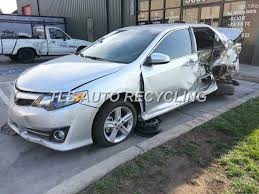Smashed: (192, 27, 242, 97)
